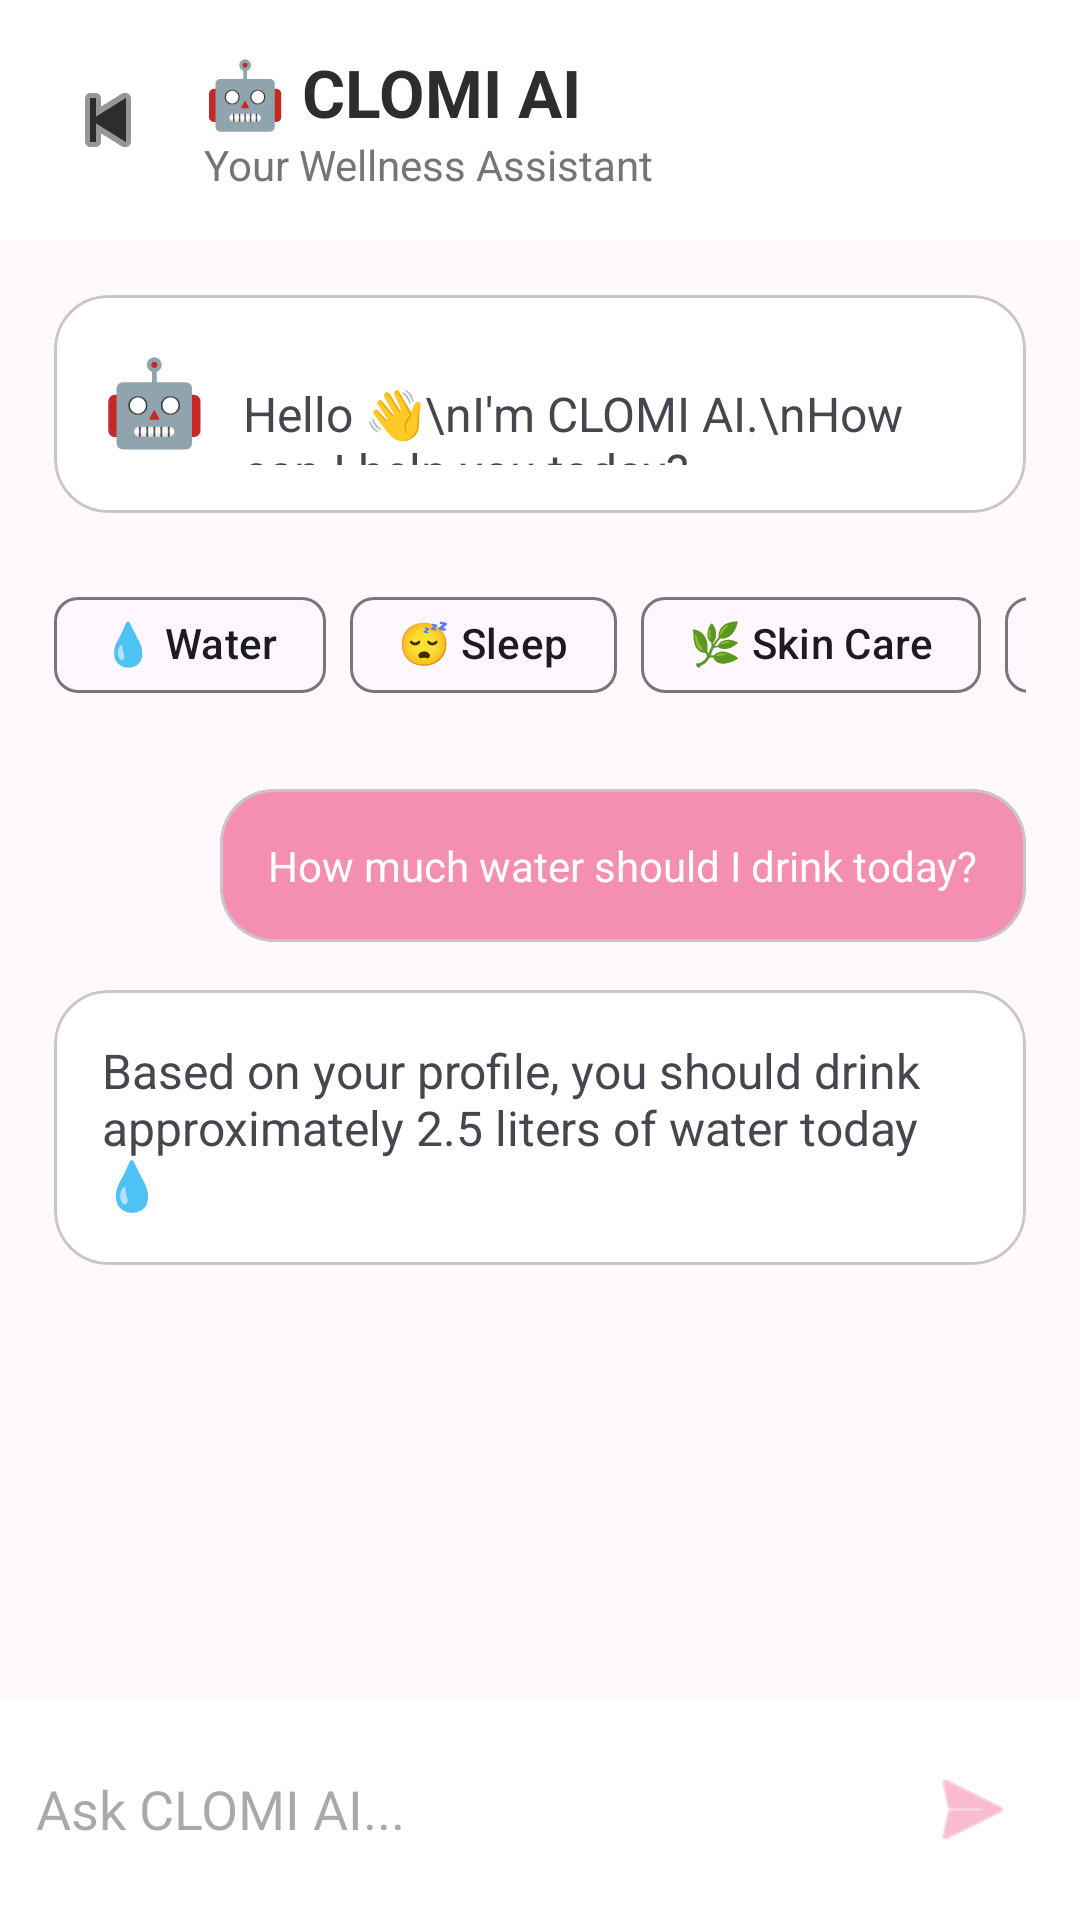

Screen size 1080*1920. Icon name, then its center in pixels as (x,y):
previous: (108,120)
send: (973,1809)
